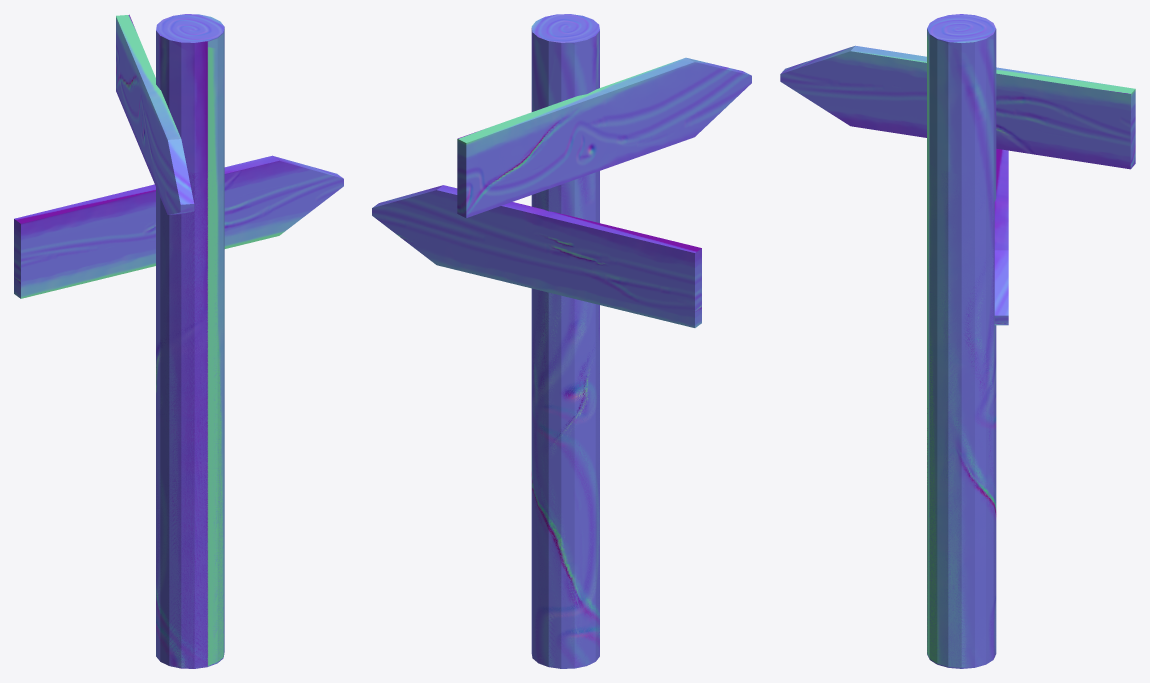
File: signs02.fbx
3 renders of one model, left to right at view 1: azimuth 30°, elevation 25°; view 2: azimuth 150°, elevation 25°; view 3: azimuth 270°, elevation 25°, orthographic.
Parts seen in each view (by area): view 1: SignDouble_02, SignSingle_02; view 2: SignDouble_02, SignSingle_02; view 3: SignDouble_02, SignSingle_02.
Part boxes in pixels (box(x1,y1,x2,y2)): SignDouble_02: box(14, 14, 343, 668); SignSingle_02: box(156, 169, 224, 668); SignDouble_02: box(372, 14, 751, 668); SignSingle_02: box(531, 175, 599, 668); SignDouble_02: box(780, 14, 1135, 668); SignSingle_02: box(927, 164, 996, 668).
Bounding box in the file's own units: 54 × 100 × 51.43.
